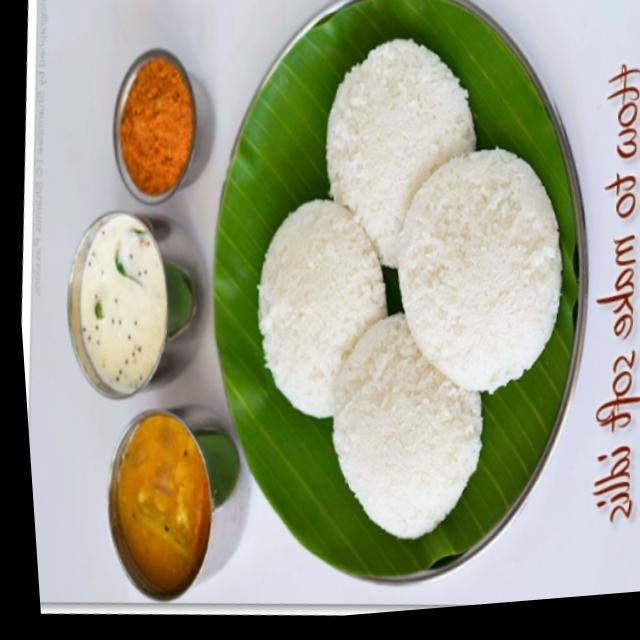IDLI: (258, 38, 559, 538)
PODI: (118, 57, 192, 194)
SAMBAR: (109, 412, 235, 598)
WHITE CHUTNEY: (79, 216, 166, 393)
